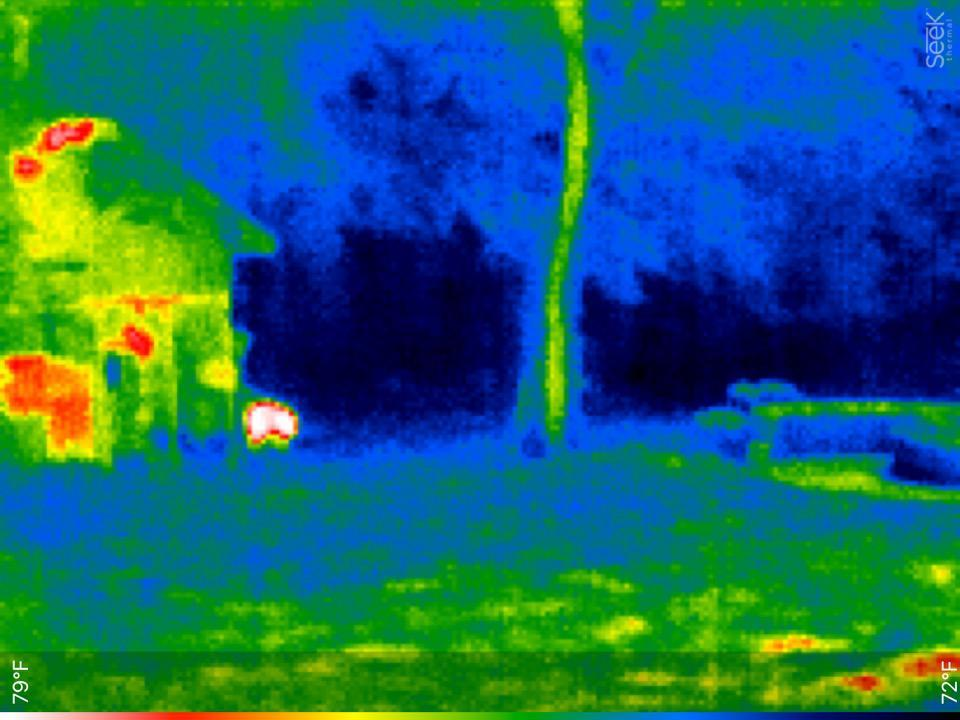dog: (236, 391, 303, 455)
